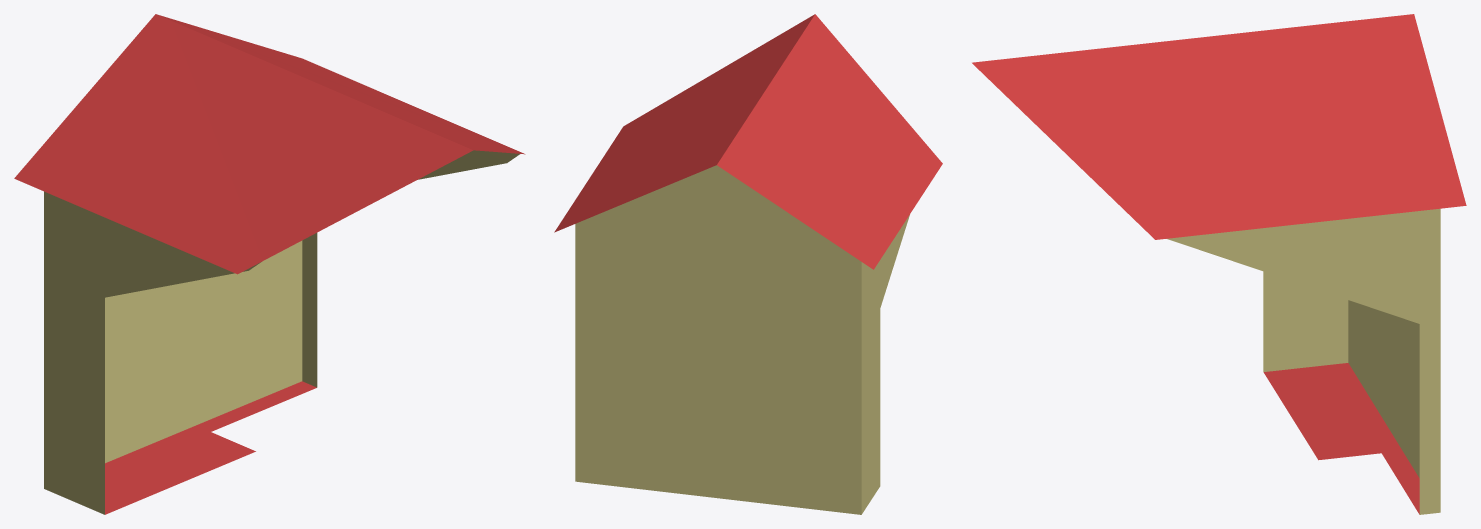
3 views of the same model, side by side, from view 1: azimuth 30°, elevation 25°; view 2: azimuth 150°, elevation 25°; view 3: azimuth 270°, elevation 25° (orthographic). The views are drawn at different scales.
Size of the model in its own units: 11.2 by 11.63 by 10.88.
